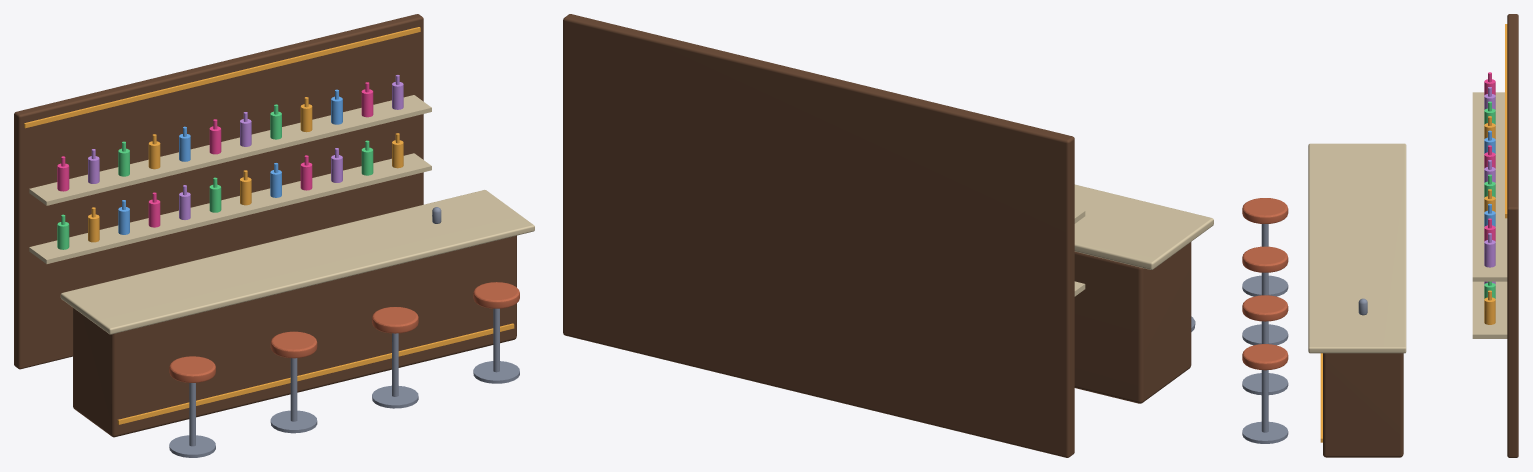
The model's file is bar.glb.
The picture shows the model from 3 angles, left to right: view 1: azimuth 30°, elevation 25°; view 2: azimuth 150°, elevation 25°; view 3: azimuth 270°, elevation 25°; orthographic projection. The views are drawn at different scales.
Parts seen in each view (by area): view 1: counter, countertop, shaker, back_strip, stool_seat_0, bottle_0_3, bottle_0_0, bottle_0_1, bottle_0_4, bottle_0_2; view 2: counter, countertop; view 3: countertop, counter, stool_seat_0, shaker, back_strip, bottle_0_4, bottle_0_1, bottle_0_3, bottle_0_0, bottle_0_2.
Boxes of the visible parts, left/top/right/bottom form: counter: left=14, top=14, right=516, bottom=437; countertop: left=29, top=95, right=534, bottom=334; shaker: left=169, top=207, right=519, bottom=457; back_strip: left=24, top=27, right=514, bottom=424; stool_seat_0: left=169, top=282, right=519, bottom=382; bottle_0_3: left=57, top=82, right=373, bottom=227; bottle_0_0: left=57, top=104, right=373, bottom=249; bottle_0_1: left=88, top=97, right=403, bottom=242; bottle_0_4: left=88, top=75, right=403, bottom=219; bottle_0_2: left=118, top=89, right=342, bottom=234; counter: left=563, top=14, right=1191, bottom=457; countertop: left=1074, top=184, right=1213, bottom=296; countertop: left=1308, top=92, right=1507, bottom=353; counter: left=1323, top=14, right=1518, bottom=457; stool_seat_0: left=1242, top=198, right=1288, bottom=370; shaker: left=1242, top=224, right=1367, bottom=443; back_strip: left=1320, top=24, right=1507, bottom=442; bottle_0_4: left=1484, top=87, right=1495, bottom=284; bottle_0_1: left=1484, top=116, right=1495, bottom=324; bottle_0_3: left=1484, top=72, right=1495, bottom=241; bottle_0_0: left=1484, top=101, right=1495, bottom=298; bottle_0_2: left=1484, top=130, right=1495, bottom=226.
Bounding box in the file's own units: 4.2 × 2.4 × 2.4.
